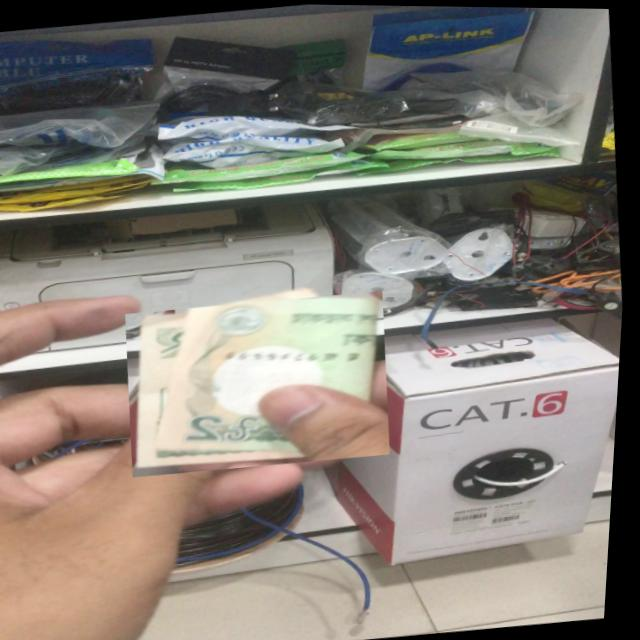Taka: (121, 287, 402, 480)
